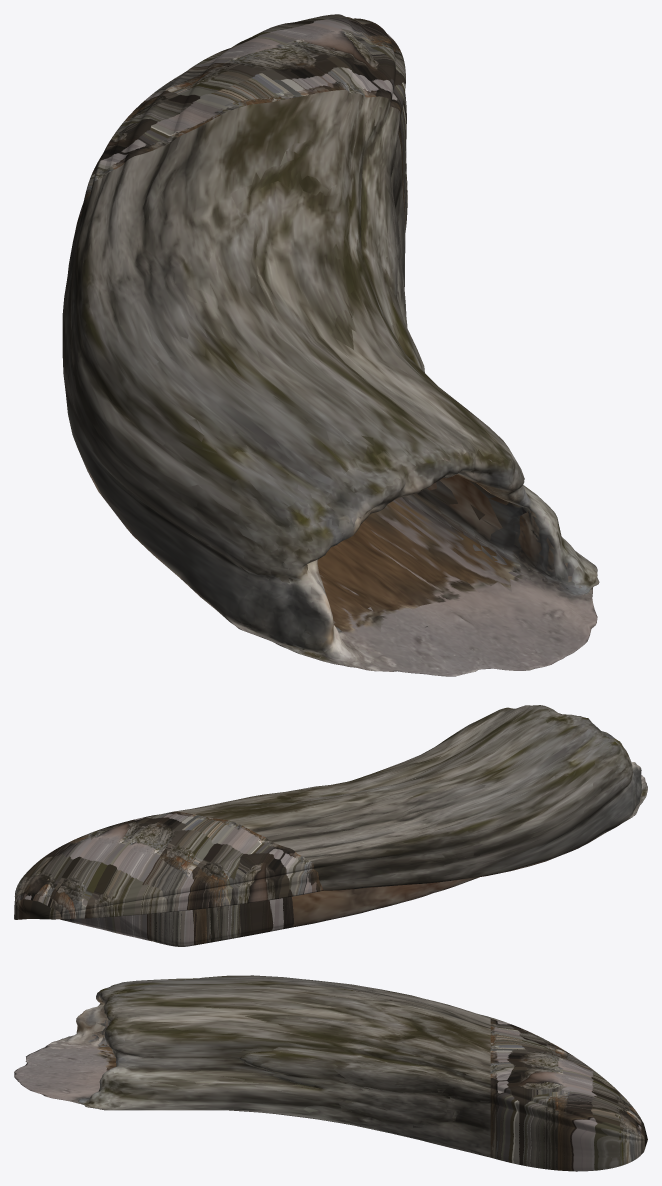
3 renders of one model, top to bottom at view 1: azimuth 30°, elevation 25°; view 2: azimuth 150°, elevation 25°; view 3: azimuth 270°, elevation 25°, orthographic. The views are drawn at different scales.
Parts seen in each view (by area): view 1: Continuous cave shell; view 2: Continuous cave shell; view 3: Continuous cave shell.
Boxes of the visible parts, x1,y1,x2,y2 form: Continuous cave shell: [62, 14, 599, 676]; Continuous cave shell: [14, 705, 647, 946]; Continuous cave shell: [14, 975, 647, 1171].
Bounding box in the file's own units: 32.26 × 8.4 × 56.81.
Materials: 1 (1 with a texture image).
